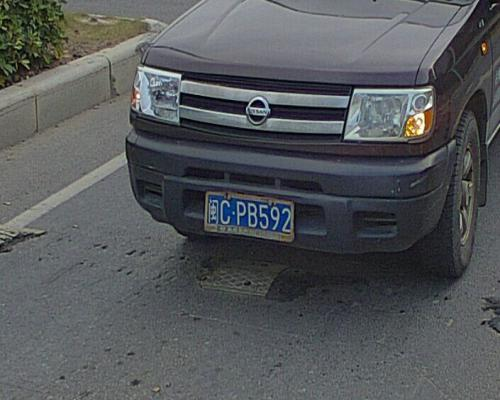Carplate: (199, 185, 299, 245)
